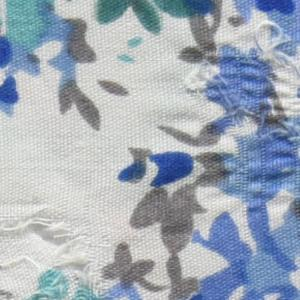Damage: (181, 1, 300, 213), (1, 194, 128, 300)
